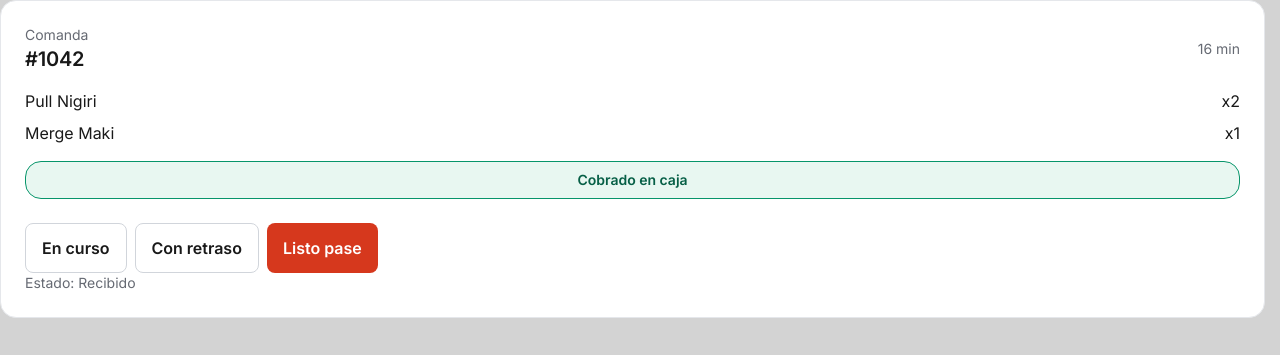
Scenario: KitchenOrderCard › dine-in payment › keeps the button and shows an error when the payment cannot be registered
Click the button with class "kitchen-order-card__collect".
click(632, 180)  # box left=25, top=161, right=1240, bottom=199
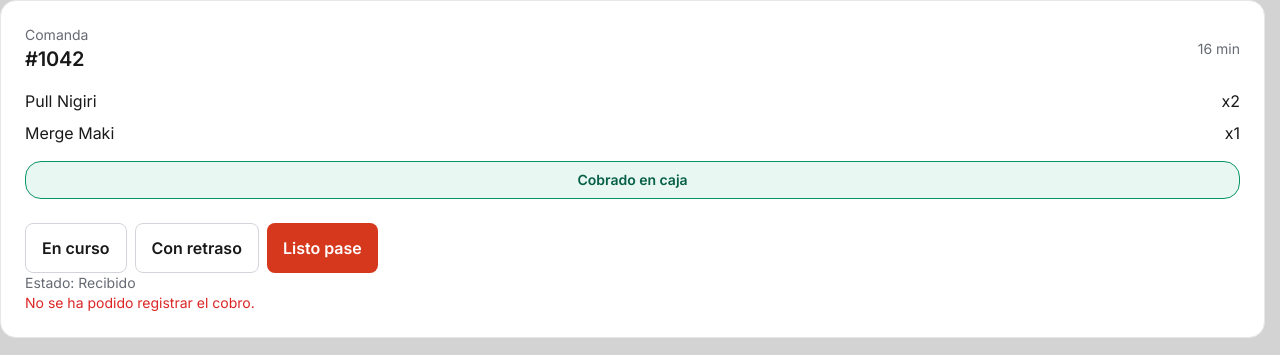
Expected: the text "No se ha podido registrar el cobro." is shown, left=25, top=294, right=255, bottom=311
